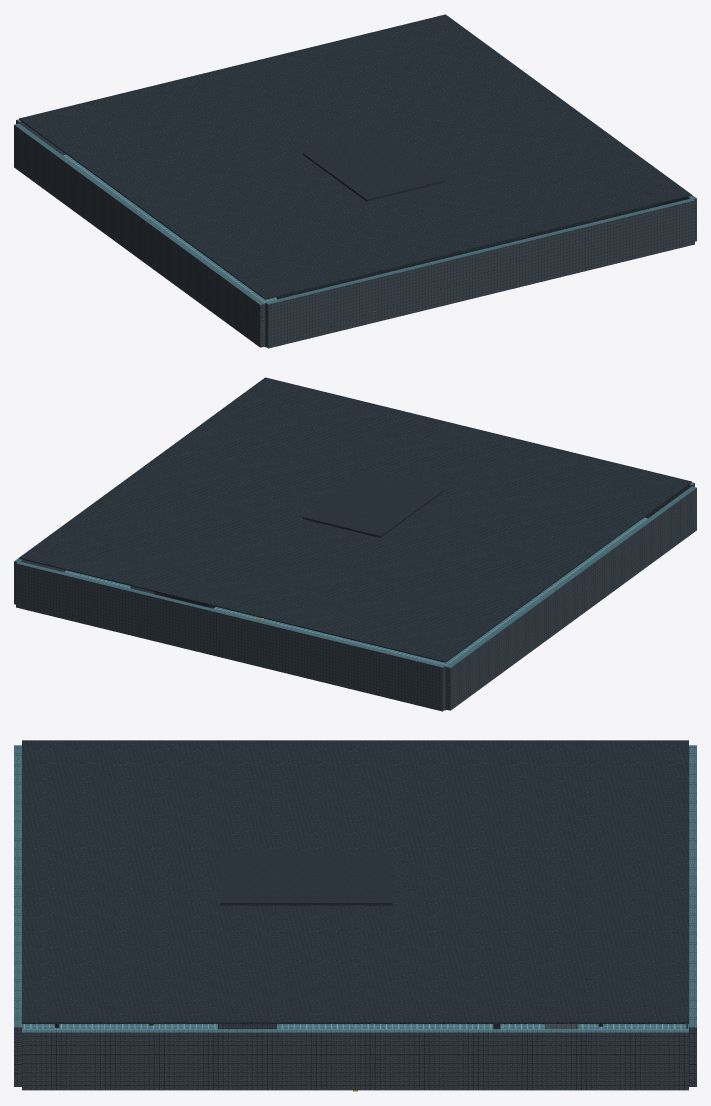
The model's file is derelict-starship.glb.
3 renders of one model, top to bottom at view 1: azimuth 30°, elevation 25°; view 2: azimuth 150°, elevation 25°; view 3: azimuth 270°, elevation 25°, orthographic. The views are drawn at different scales.
Visible parts, largest first — view 1: ART_derelict-starship_dark_fractured_ship_ceiling, ART_derelict-starship_outer_north_fractured_hull, ART_derelict-starship_outer_west_torn_hull, ART_derelict-starship_raised_bridge_ceiling_bay, WALKABLE_derelict-starship_outer_north_fractured_hull, ART_derelict-starship_fore_overhead_rib_1, WALKABLE_derelict-starship_outer_west_torn_hull, ART_derelict-starship_deck_plating, WALKABLE_derelict-starship_deck_plating; view 2: ART_derelict-starship_dark_fractured_ship_ceiling, ART_derelict-starship_outer_south_fractured_hull, ART_derelict-starship_outer_west_torn_hull, ART_derelict-starship_raised_bridge_ceiling_bay, ART_derelict-starship_deck_plating, WALKABLE_derelict-starship_deck_plating, WALKABLE_derelict-starship_outer_south_fractured_hull, WALKABLE_derelict-starship_outer_west_torn_hull; view 3: ART_derelict-starship_dark_fractured_ship_ceiling, ART_derelict-starship_outer_east_torn_hull, ART_derelict-starship_raised_bridge_ceiling_bay, ART_derelict-starship_deck_plating, WALKABLE_derelict-starship_deck_plating, ART_derelict-starship_outer_north_fractured_hull, ART_derelict-starship_outer_south_fractured_hull, WALKABLE_derelict-starship_outer_east_torn_hull, WALKABLE_derelict-starship_outer_south_fractured_hull, WALKABLE_derelict-starship_outer_north_fractured_hull.
Boxes of the visible parts, left/top/right/bottom form: ART_derelict-starship_dark_fractured_ship_ceiling: left=19, top=14, right=691, bottom=299; ART_derelict-starship_outer_north_fractured_hull: left=265, top=198, right=694, bottom=348; ART_derelict-starship_outer_west_torn_hull: left=14, top=123, right=265, bottom=347; ART_derelict-starship_raised_bridge_ceiling_bay: left=303, top=134, right=444, bottom=201; WALKABLE_derelict-starship_outer_north_fractured_hull: left=266, top=198, right=694, bottom=304; ART_derelict-starship_fore_overhead_rib_1: left=276, top=205, right=654, bottom=299; WALKABLE_derelict-starship_outer_west_torn_hull: left=14, top=123, right=264, bottom=304; ART_derelict-starship_deck_plating: left=63, top=154, right=276, bottom=347; WALKABLE_derelict-starship_deck_plating: left=63, top=155, right=276, bottom=302; ART_derelict-starship_dark_fractured_ship_ceiling: left=19, top=377, right=691, bottom=662; ART_derelict-starship_outer_south_fractured_hull: left=16, top=561, right=445, bottom=711; ART_derelict-starship_outer_west_torn_hull: left=445, top=486, right=696, bottom=710; ART_derelict-starship_raised_bridge_ceiling_bay: left=303, top=470, right=444, bottom=537; ART_derelict-starship_deck_plating: left=64, top=517, right=647, bottom=710; WALKABLE_derelict-starship_deck_plating: left=65, top=518, right=647, bottom=665; WALKABLE_derelict-starship_outer_south_fractured_hull: left=16, top=561, right=444, bottom=667; WALKABLE_derelict-starship_outer_west_torn_hull: left=446, top=486, right=696, bottom=667; ART_derelict-starship_dark_fractured_ship_ceiling: left=22, top=740, right=688, bottom=1023; ART_derelict-starship_outer_east_torn_hull: left=22, top=1029, right=688, bottom=1090; ART_derelict-starship_raised_bridge_ceiling_bay: left=220, top=851, right=392, bottom=905; ART_derelict-starship_deck_plating: left=22, top=1024, right=688, bottom=1028; WALKABLE_derelict-starship_deck_plating: left=22, top=1024, right=688, bottom=1028; ART_derelict-starship_outer_north_fractured_hull: left=14, top=745, right=21, bottom=1086; ART_derelict-starship_outer_south_fractured_hull: left=689, top=745, right=696, bottom=1086; WALKABLE_derelict-starship_outer_east_torn_hull: left=22, top=1029, right=688, bottom=1032; WALKABLE_derelict-starship_outer_south_fractured_hull: left=689, top=745, right=696, bottom=1027; WALKABLE_derelict-starship_outer_north_fractured_hull: left=14, top=745, right=21, bottom=1026.
Size of what is drawn, in the model's own units: 34.8 by 11.98 by 34.8.
Materials: 10 (8 with a texture image).
